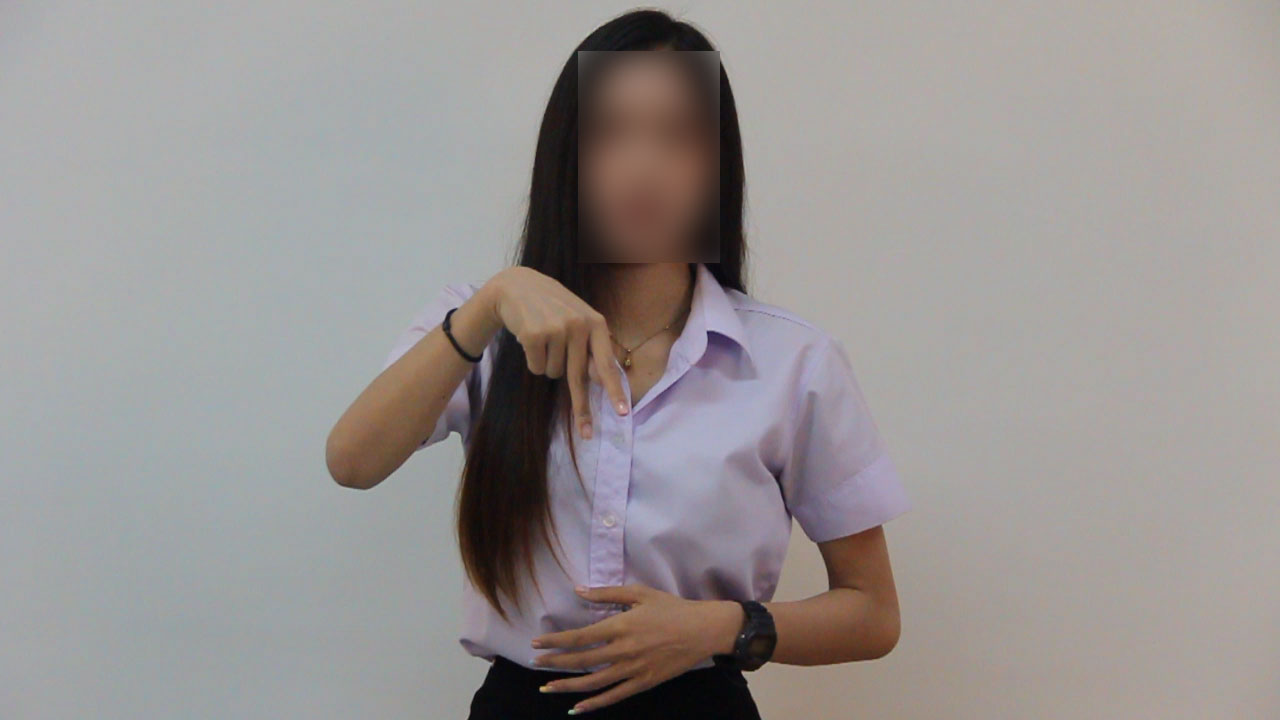por: (477, 255, 638, 448)
